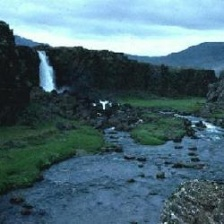neutral: (1, 12, 223, 224)
